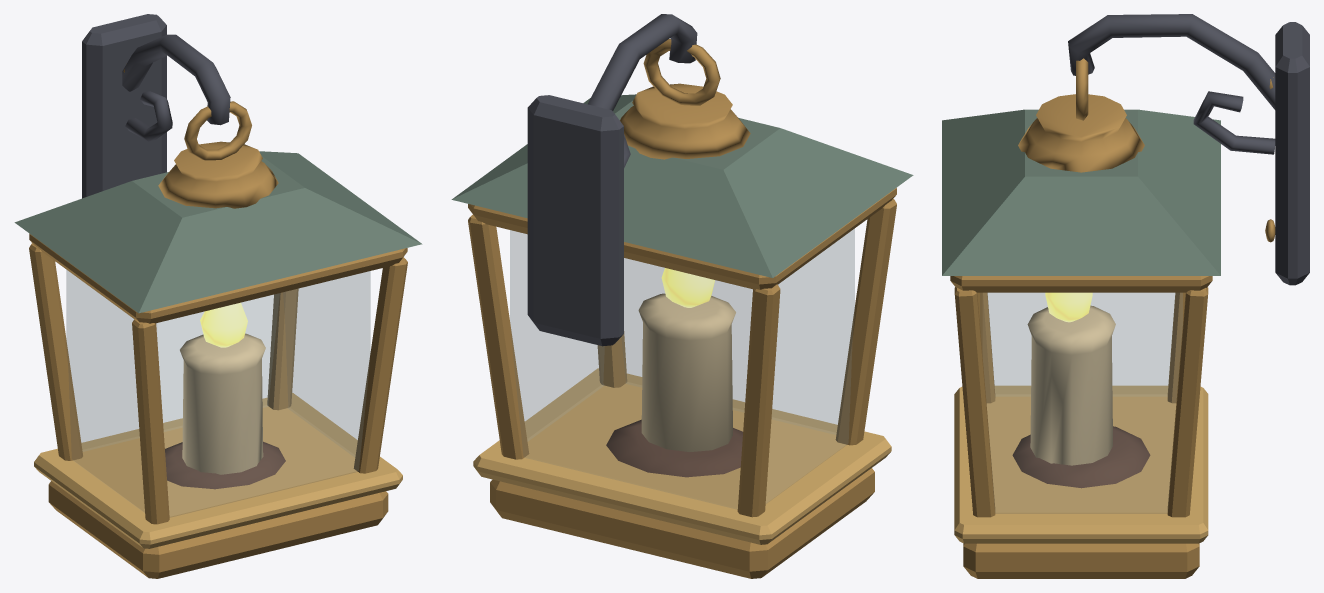
File: door_lantern.glb
The picture shows the model from 3 angles, left to right: view 1: azimuth 30°, elevation 25°; view 2: azimuth 150°, elevation 25°; view 3: azimuth 270°, elevation 25°; orthographic projection. The views are drawn at different scales.
Parts seen in each view (by area): view 1: door_lantern; view 2: door_lantern; view 3: door_lantern.
Part boxes in pixels (x1,y1,x2,y2): door_lantern: (14,14,422,578); door_lantern: (451,14,913,578); door_lantern: (942,14,1309,578).
Size of the model in its own units: 0.3 by 0.45 by 0.3.
